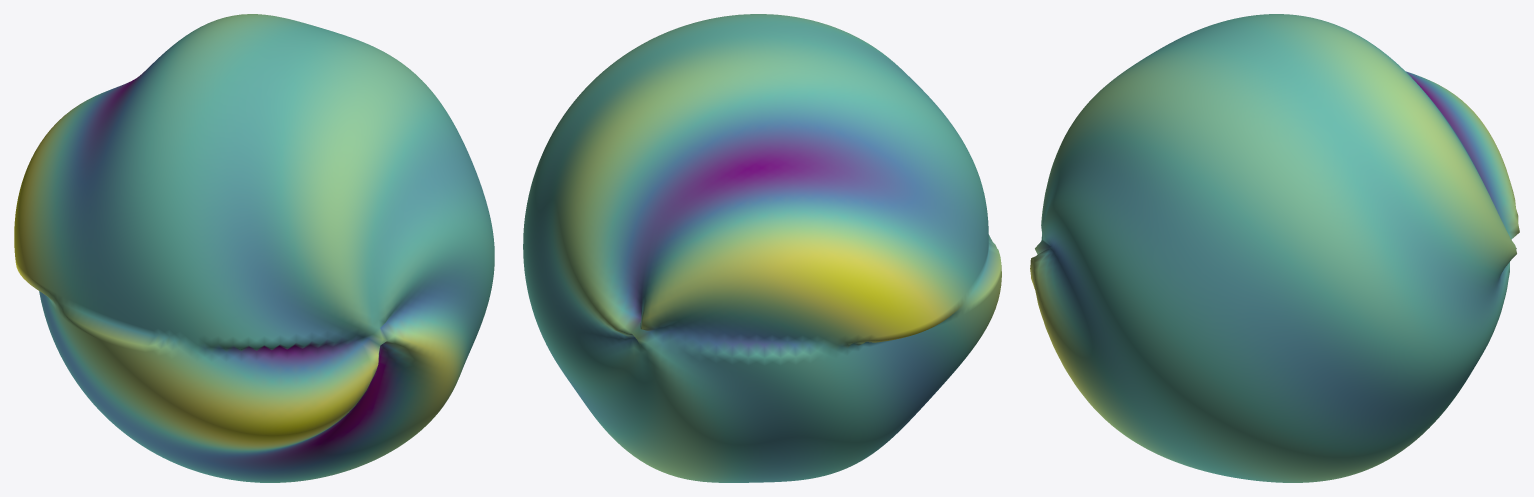
File: sphere_frame_0018.glb
3 renders of one model, left to right at view 1: azimuth 30°, elevation 25°; view 2: azimuth 150°, elevation 25°; view 3: azimuth 270°, elevation 25°, orthographic.
Parts seen in each view (by area): view 1: world; view 2: world; view 3: world.
Boxes of the visible parts, x1=… form: world: x1=14, y1=14, x2=494, y2=482; world: x1=523, y1=14, x2=1001, y2=482; world: x1=1030, y1=14, x2=1519, y2=482.
Size of the model in its own units: 2.18 by 2.16 by 2.26.
